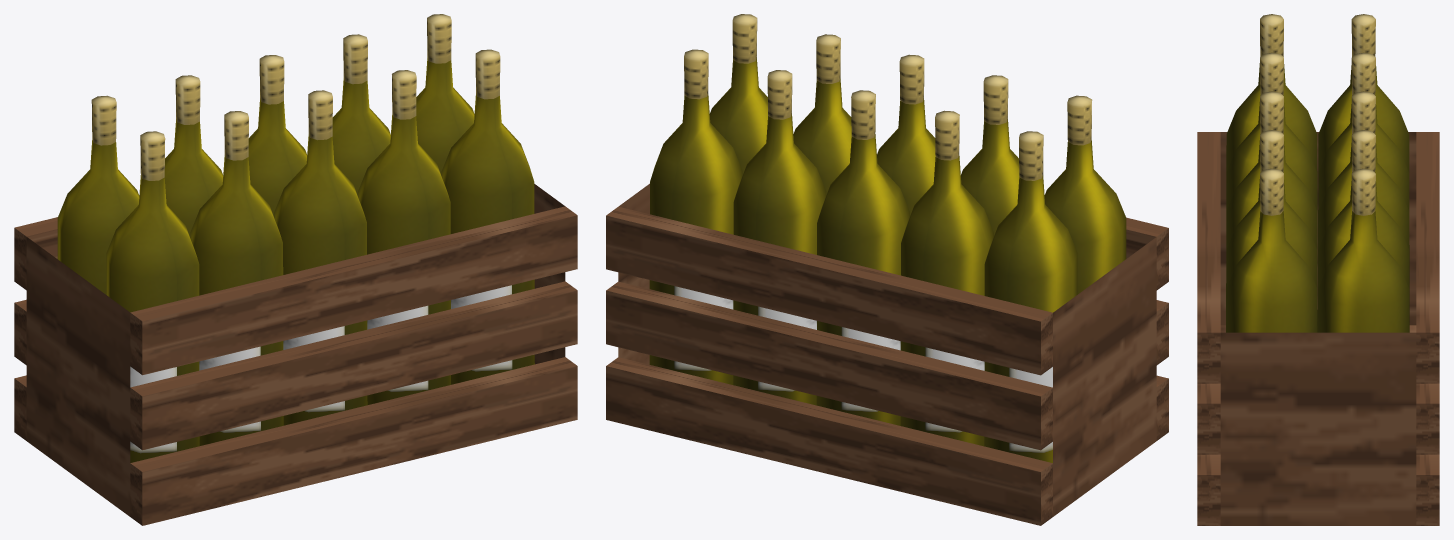
The model's file is wooden_box_of_wine_bottles.fbx.
The picture shows the model from 3 angles, left to right: view 1: azimuth 30°, elevation 25°; view 2: azimuth 150°, elevation 25°; view 3: azimuth 270°, elevation 25°; orthographic projection. The views are drawn at different scales.
Parts seen in each view (by area): view 1: WineWoodBox; view 2: WineWoodBox; view 3: WineWoodBox.
Boxes of the visible parts, bbox=[...] form: WineWoodBox: bbox=[14, 14, 577, 525]; WineWoodBox: bbox=[606, 14, 1168, 525]; WineWoodBox: bbox=[1197, 14, 1439, 525].
Size of the model in its own units: 0.4565 by 0.3517 by 0.2328.
